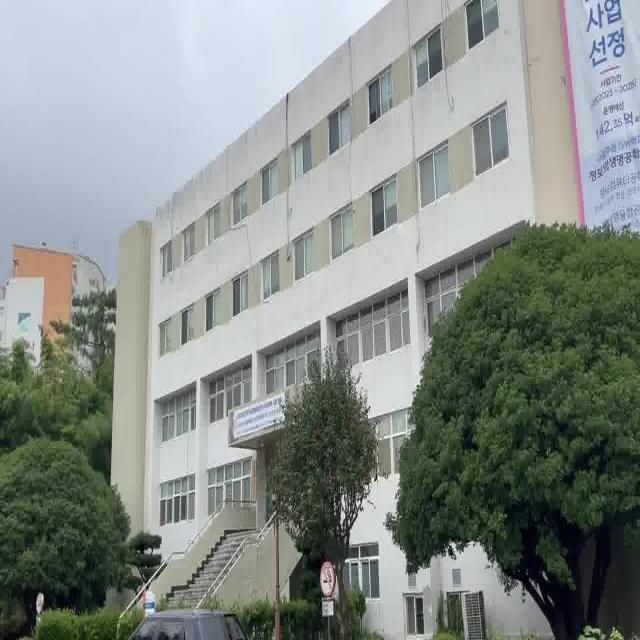building: (110, 63, 422, 342)
